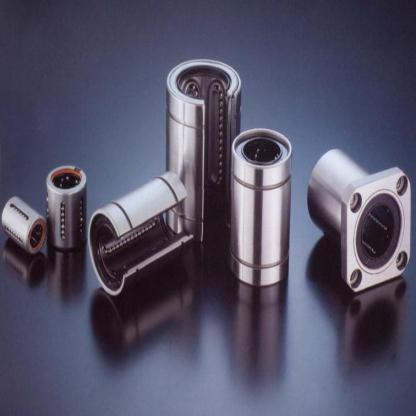FOD: (307, 146, 413, 294), (165, 53, 243, 252), (87, 168, 195, 301), (227, 125, 295, 290), (45, 164, 89, 252), (0, 194, 48, 256)
